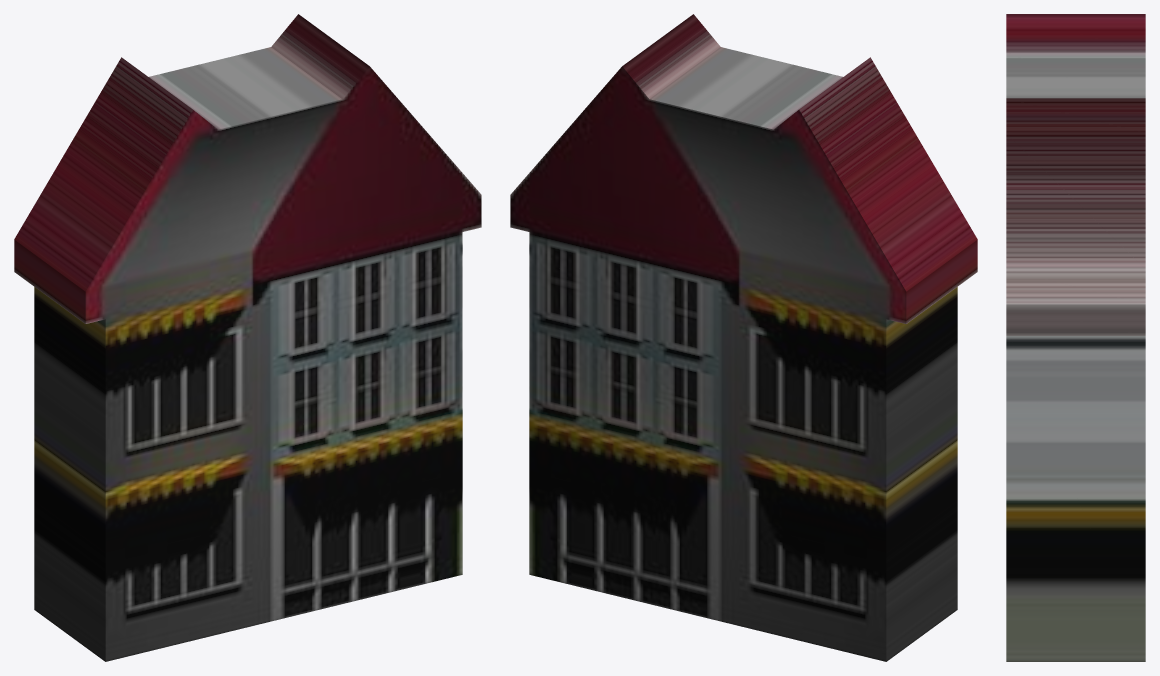
3 renders of one model, left to right at view 1: azimuth 30°, elevation 25°; view 2: azimuth 150°, elevation 25°; view 3: azimuth 270°, elevation 25°, orthographic. The views are drawn at different scales.
Visible parts, largest first — view 1: imgbin-facade-property-house-building-cartoon-xs0hwrq5KrF9Z0; view 2: imgbin-facade-property-house-building-cartoon-xs0hwrq5KrF9Z0; view 3: imgbin-facade-property-house-building-cartoon-xs0hwrq5KrF9Z0.
Boxes of the visible parts, bbox=[...] form: imgbin-facade-property-house-building-cartoon-xs0hwrq5KrF9Z0: bbox=[14, 14, 481, 661]; imgbin-facade-property-house-building-cartoon-xs0hwrq5KrF9Z0: bbox=[510, 14, 977, 661]; imgbin-facade-property-house-building-cartoon-xs0hwrq5KrF9Z0: bbox=[1006, 14, 1145, 661].
Bounding box in the file's own units: 68.62 × 87.93 × 21.42.
